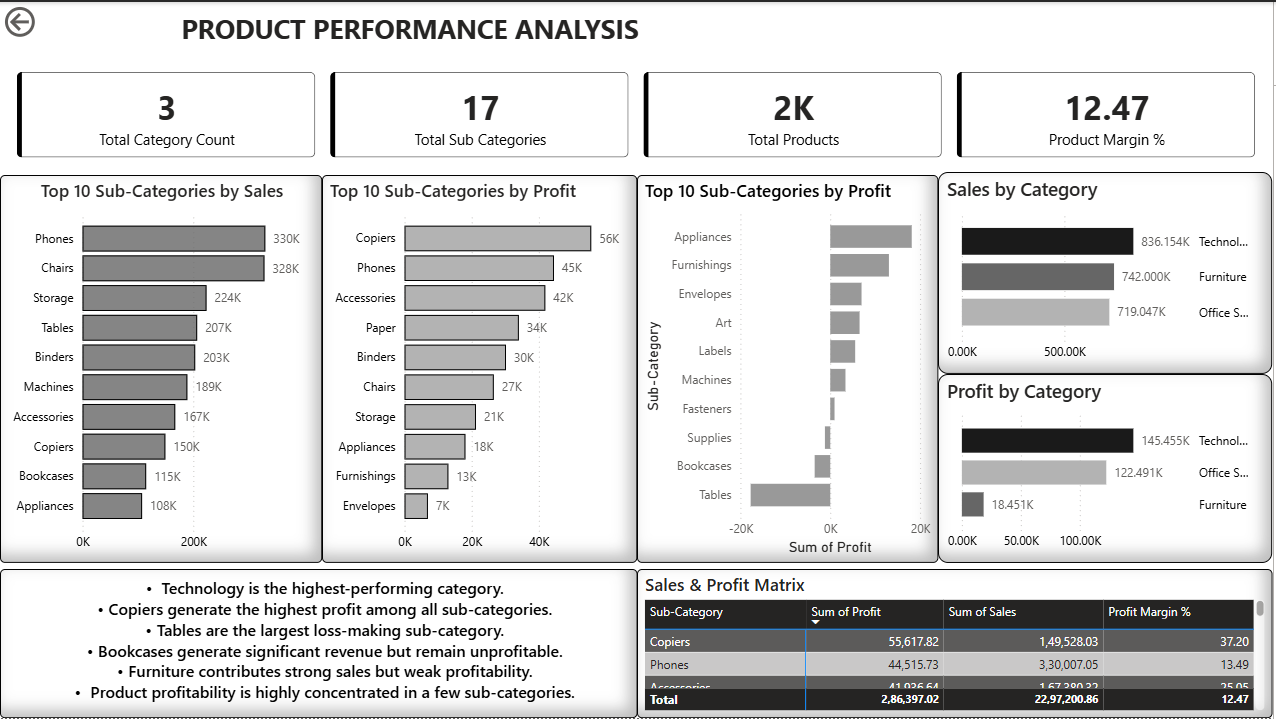

What the dashboard file says about the page in this screenshot:
{"tool":"powerbi","page":{"name":"Product Performance","canvas":[1280,720],"ordinal":2},"visuals":[{"type":"textbox","box":[169.6,2.7,492.4,49],"z":0},{"type":"cardVisual","fields":{"Data":["sales_data.Total Category Count","sales_data.Total Sub Categories","sales_data.Total Products","sales_data.Product Margin %"]},"box":[0,53.5,1280,120.6],"z":1000},{"type":"clusteredBarChart","title":"Sales by Category","fields":{"Category":["sales_data.Category"],"Y":["Sum(sales_data.Sales)"]},"box":[943.6,171.4,336.4,203.1],"z":2000},{"type":"clusteredBarChart","title":"Profit by Category","fields":{"Category":["sales_data.Category"],"Y":["Sum(sales_data.Profit)"]},"box":[943.6,374.5,336.4,190.4],"z":3000},{"type":"barChart","title":"Top 10 Sub-Categories by Sales","fields":{"Category":["sales_data.Sub-Category"],"Y":["Sum(sales_data.Sales)"]},"box":[0,174,323.8,390.1],"z":4000},{"type":"actionButton","box":[0,0,100,40],"z":5000},{"type":"barChart","title":"Top 10 Sub-Categories by Profit","fields":{"Category":["sales_data.Sub-Category"],"Y":["Sum(sales_data.Profit)"]},"box":[323.8,174,316.7,390.1],"z":6000},{"type":"barChart","title":"Top 10 Sub-Categories by Profit","fields":{"Category":["sales_data.Sub-Category"],"Y":["Sum(sales_data.Profit)"]},"box":[640.5,174,302.7,390.1],"z":7000},{"type":"textbox","box":[0,570.1,640.5,149.8],"z":8000},{"type":"pivotTable","title":"Sales & Profit Matrix","fields":{"Values":["Sum(sales_data.Profit)","Sum(sales_data.Sales)","sales_data.Profit Margin %"],"Rows":["sales_data.Sub-Category"]},"box":[640.5,570.1,639.5,149.8],"z":9000}]}

Visuals, with their boxes in screenshot pixels (x1, y1, x2, y2), scaled from the page's 1280x720 canvas onto the 1276x719 screenshot:
textbox: (169,3,660,52)
cardVisual - sales_data.Total Category Count x sales_data.Total Sub Categories: (0,53,1275,174)
"Sales by Category" clusteredBarChart: (941,171,1275,374)
"Profit by Category" clusteredBarChart: (941,374,1275,564)
"Top 10 Sub-Categories by Sales" barChart: (0,174,323,563)
actionButton: (0,0,100,40)
"Top 10 Sub-Categories by Profit" barChart: (323,174,638,563)
"Top 10 Sub-Categories by Profit" barChart: (638,174,940,563)
textbox: (0,569,638,718)
"Sales & Profit Matrix" pivotTable: (638,569,1275,718)
